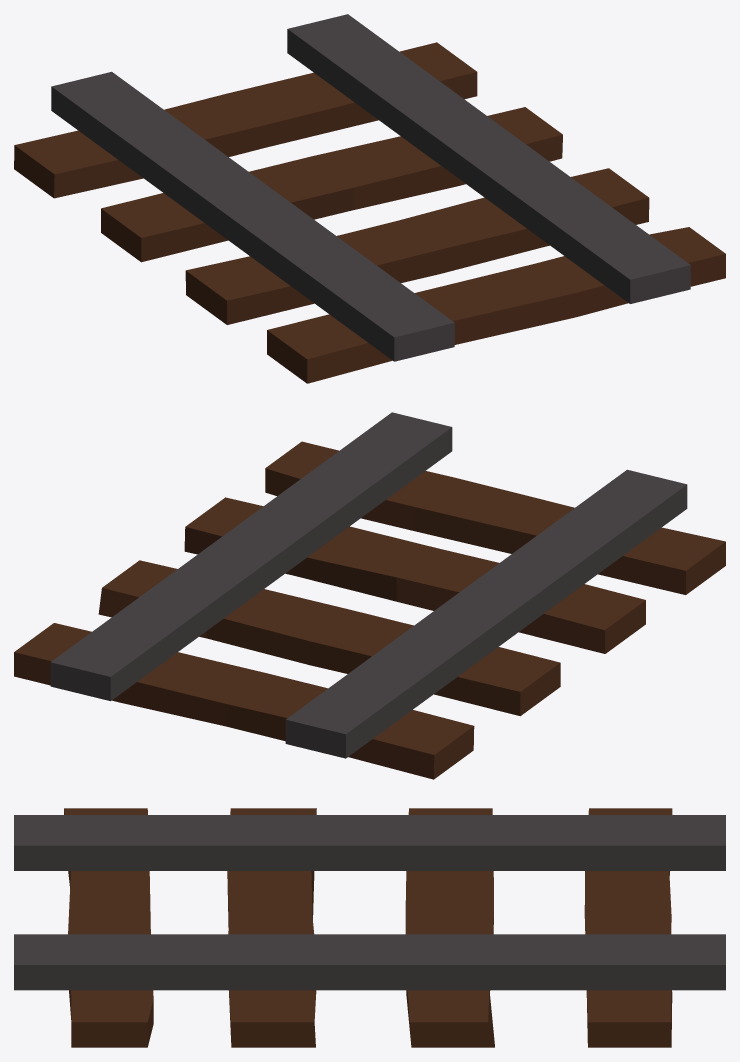
The model's file is track_straight.fbx.
3 renders of one model, top to bottom at view 1: azimuth 30°, elevation 25°; view 2: azimuth 150°, elevation 25°; view 3: azimuth 270°, elevation 25°, orthographic. The views are drawn at different scales.
Visible parts, largest first — view 1: track_straight.001; view 2: track_straight.001; view 3: track_straight.001.
Boxes of the visible parts, bbox=[...] form: track_straight.001: bbox=[14, 14, 725, 383]; track_straight.001: bbox=[14, 412, 725, 779]; track_straight.001: bbox=[14, 808, 725, 1047].
Size of the model in its own units: 240 by 26.85 by 338.
